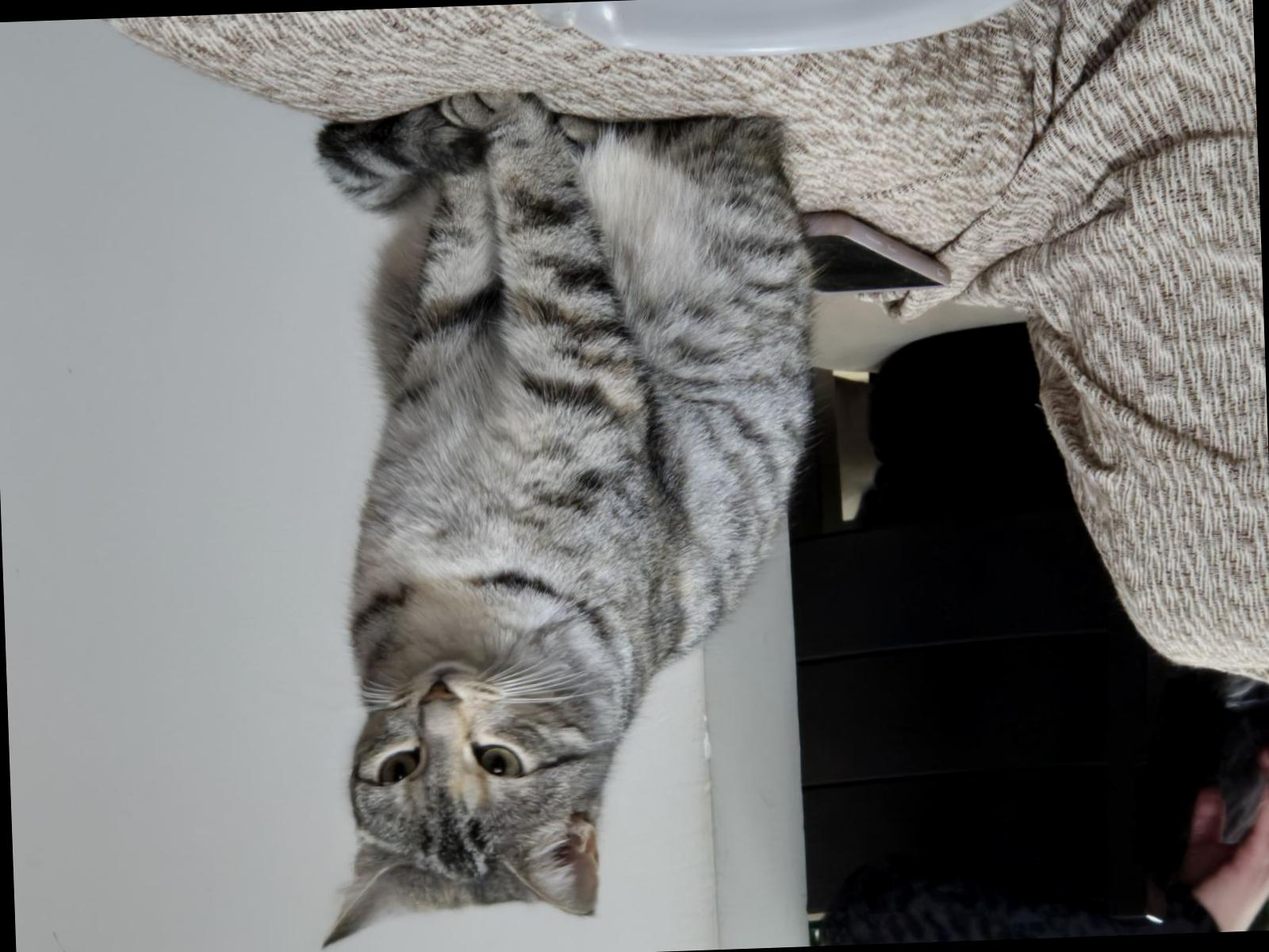macka: (294, 73, 825, 949)
